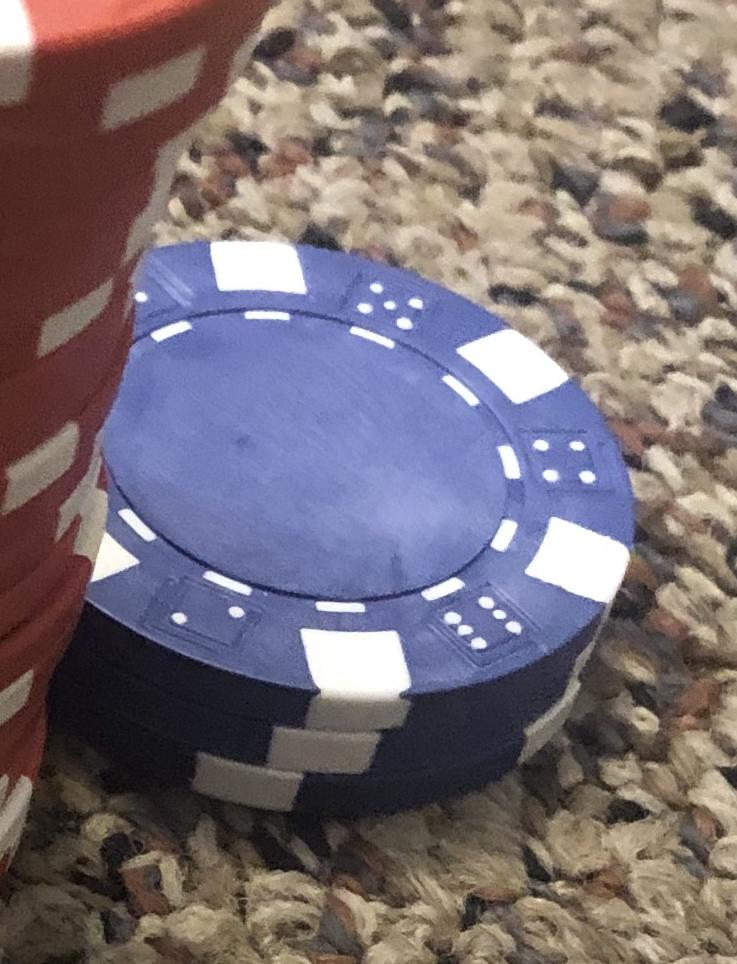Chip: (1, 1, 737, 964)
